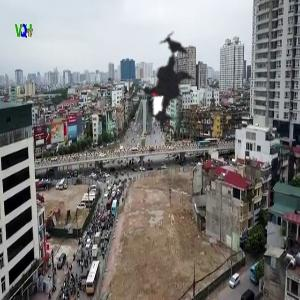drone: (92, 10, 230, 148)
